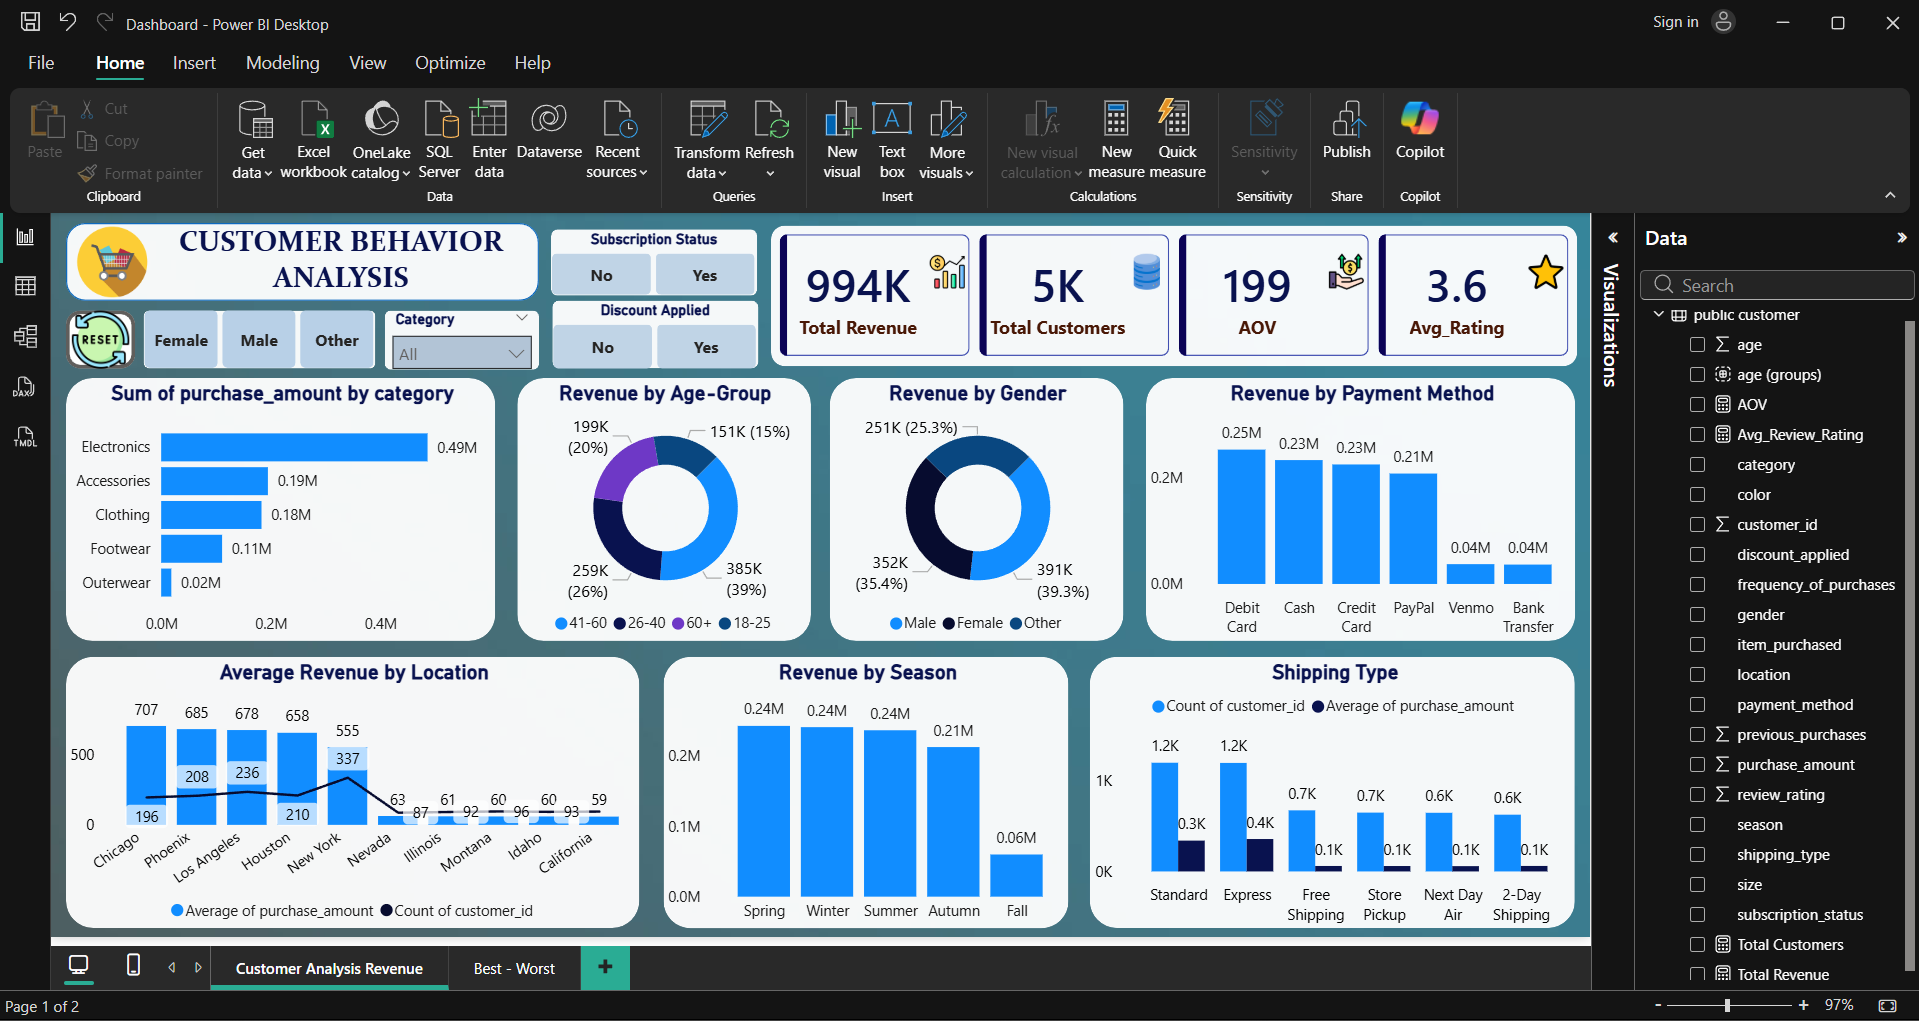

The page's visual inventory and layout, read from the dashboard file:
{"tool":"powerbi","page":{"name":"Customer Analysis Revenue","canvas":[1265,595],"ordinal":0},"visuals":[{"type":"shape","box":[591.5,10.1,662.5,115.7],"z":0},{"type":"shape","box":[503.2,364.2,332.8,223.2],"z":1000},{"type":"shape","box":[12.6,135.6,352.8,216],"z":2000},{"type":"cardVisual","fields":{"Data":["public customer.Total Revenue","public customer.Total Customers","public customer.AOV","public customer.Avg_Review_Rating"]},"box":[598.6,17.2,649.3,100.4],"z":3000},{"type":"shape","box":[640.1,135.6,241.3,216],"z":4000},{"type":"donutChart","title":"Revenue by Gender","fields":{"Category":["public customer.gender"],"Y":["Sum(public customer.purchase_amount)"]},"box":[640.1,135.6,241.3,216],"z":5000},{"type":"clusteredBarChart","fields":{"Category":["public customer.category"],"Y":["Sum(public customer.purchase_amount)"]},"box":[12.2,136,353.1,216.1],"z":6000},{"type":"shape","box":[382.7,135.6,241.3,216],"z":7000},{"type":"clusteredColumnChart","title":"Revenue by Season","fields":{"Category":["public customer.season"],"Y":["Sum(public customer.purchase_amount)"]},"box":[503.3,364.3,333.3,222.9],"z":8000},{"type":"shape","box":[853.8,364.3,398.8,222.9],"z":9000},{"type":"shape","box":[12.6,364.3,471.2,222.9],"z":10000},{"type":"clusteredColumnChart","title":"Shipping Type","fields":{"Y":["CountNonNull(public customer.customer_id)","Avg(public customer.purchase_amount)"],"Category":["public customer.shipping_type"]},"box":[854.3,364.2,398.7,223.2],"z":11000},{"type":"shape","box":[410.9,13.2,169.4,54.8],"z":12000},{"type":"donutChart","title":"Revenue by Age-Group","fields":{"Category":["public customer.age (groups)"],"Y":["Sum(public customer.purchase_amount)"]},"box":[382.7,135.6,241.3,216],"z":13000},{"type":"shape","box":[899.8,135.6,352.8,216],"z":14000},{"type":"shape","box":[12.2,8.1,388.6,63.9],"z":14500},{"type":"lineClusteredColumnComboChart","title":"Average Revenue by Location","fields":{"Y":["Avg(public customer.purchase_amount)"],"Category":["public customer.location"],"Y2":["CountNonNull(public customer.customer_id)"]},"box":[12.6,364.3,471.2,222.9],"z":15000},{"type":"clusteredColumnChart","title":"Revenue by Payment Method","fields":{"Category":["public customer.payment_method"],"Y":["Sum(public customer.purchase_amount)"]},"box":[899.8,135.6,352.8,216],"z":16000},{"type":"textbox","box":[76.1,8.1,324.7,63.9],"z":17000},{"type":"shape","box":[76.1,80.2,190.7,47.7],"z":18000},{"type":"shape","box":[411.9,72,169.4,55.8],"z":19000},{"type":"shape","box":[273.9,80.2,126.8,48.7],"z":19500},{"type":"slicer","fields":{"Values":["public customer.category"]},"box":[273.9,80.2,126.8,47.7],"z":20000},{"type":"advancedSlicerVisual","title":"Discount Applied","fields":{"Values":["public customer.discount_applied"]},"box":[411.9,72,169.4,56.8],"z":21000},{"type":"advancedSlicerVisual","title":"Subscription Status","fields":{"Values":["public customer.subscription_status"]},"box":[410.9,13.2,169.4,54.8],"z":22000},{"type":"advancedSlicerVisual","fields":{"Values":["public customer.gender"]},"box":[75.8,80.4,190.8,47.1],"z":23000},{"type":"actionButton","box":[12.2,80.2,56.8,47.7],"z":24000},{"type":"image","box":[12.2,80.2,56.8,47.7],"z":25000},{"type":"image","box":[12.2,8.1,76.1,63.9],"z":27000}]}

Visuals, with their boxes on the page's 1265x595 design canvas (x1, y1, x2, y2). These are canvas units, not pixel positions in the 1919x1021 screenshot, which may show the page scaled, cropped or inside an application window:
shape: [left=592, top=10, right=1254, bottom=126]
shape: [left=503, top=364, right=836, bottom=587]
shape: [left=13, top=136, right=365, bottom=352]
cardVisual - public customer.Total Revenue x public customer.Total Customers: [left=599, top=17, right=1248, bottom=118]
shape: [left=640, top=136, right=881, bottom=352]
"Revenue by Gender" donutChart: [left=640, top=136, right=881, bottom=352]
clusteredBarChart - public customer.category x Sum(public customer.purchase_amount): [left=12, top=136, right=365, bottom=352]
shape: [left=383, top=136, right=624, bottom=352]
"Revenue by Season" clusteredColumnChart: [left=503, top=364, right=837, bottom=587]
shape: [left=854, top=364, right=1253, bottom=587]
shape: [left=13, top=364, right=484, bottom=587]
"Shipping Type" clusteredColumnChart: [left=854, top=364, right=1253, bottom=587]
shape: [left=411, top=13, right=580, bottom=68]
"Revenue by Age-Group" donutChart: [left=383, top=136, right=624, bottom=352]
shape: [left=900, top=136, right=1253, bottom=352]
shape: [left=12, top=8, right=401, bottom=72]
"Average Revenue by Location" lineClusteredColumnComboChart: [left=13, top=364, right=484, bottom=587]
"Revenue by Payment Method" clusteredColumnChart: [left=900, top=136, right=1253, bottom=352]
textbox: [left=76, top=8, right=401, bottom=72]
shape: [left=76, top=80, right=267, bottom=128]
shape: [left=412, top=72, right=581, bottom=128]
shape: [left=274, top=80, right=401, bottom=129]
slicer - public customer.category: [left=274, top=80, right=401, bottom=128]
"Discount Applied" advancedSlicerVisual: [left=412, top=72, right=581, bottom=129]
"Subscription Status" advancedSlicerVisual: [left=411, top=13, right=580, bottom=68]
advancedSlicerVisual - public customer.gender: [left=76, top=80, right=267, bottom=128]
actionButton: [left=12, top=80, right=69, bottom=128]
image: [left=12, top=80, right=69, bottom=128]
image: [left=12, top=8, right=88, bottom=72]
